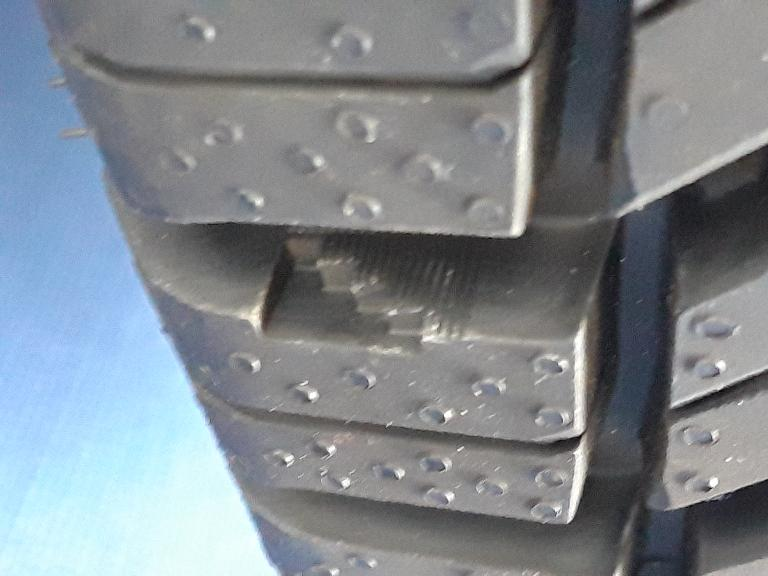temoin:100: (250, 225, 490, 366)
